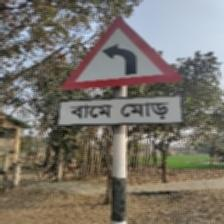Left-Turn: (57, 14, 187, 130)
